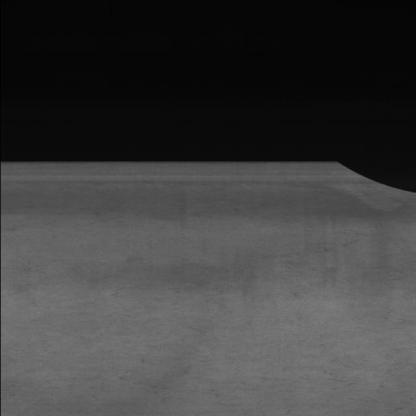crescent_gap: (320, 160, 416, 201)
